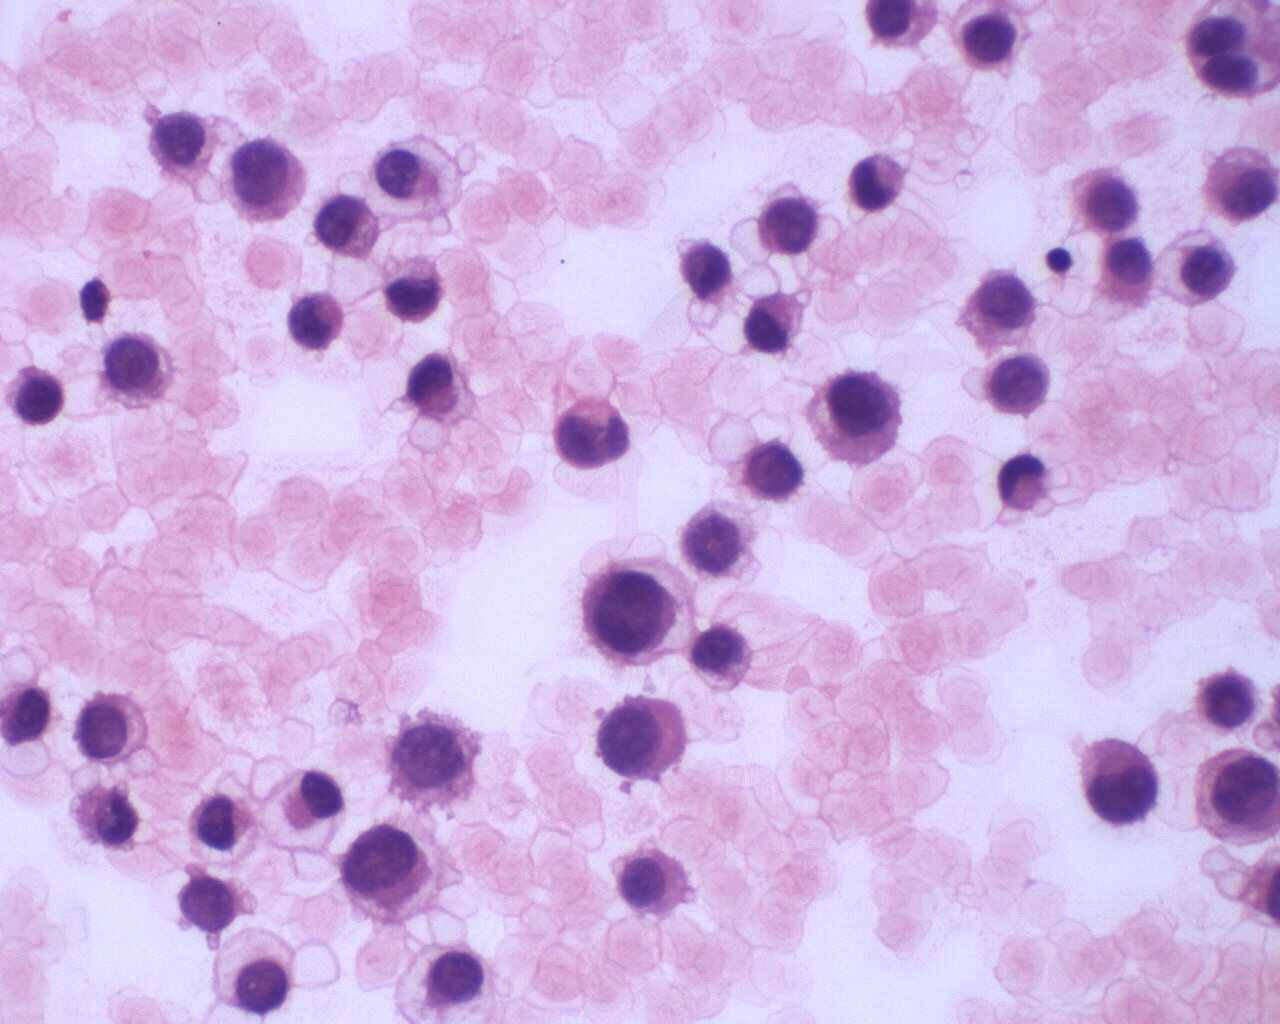ab: (804, 363, 914, 469), (381, 711, 486, 813), (578, 566, 679, 668), (596, 692, 690, 787), (1191, 749, 1280, 850), (336, 825, 433, 911), (1076, 732, 1163, 827), (218, 137, 310, 225), (99, 326, 180, 414), (73, 691, 161, 771), (955, 270, 1042, 350), (550, 393, 637, 472), (615, 844, 698, 922), (310, 192, 388, 267), (686, 623, 762, 697), (734, 430, 811, 501), (70, 781, 143, 853), (1072, 163, 1145, 234), (981, 351, 1053, 420), (1091, 236, 1159, 309), (149, 110, 217, 180), (3, 359, 68, 430), (282, 282, 346, 354), (955, 11, 1023, 76), (758, 192, 820, 261), (1194, 666, 1259, 731)
lymph: (1045, 243, 1077, 279)
meso: (1198, 141, 1280, 229)
